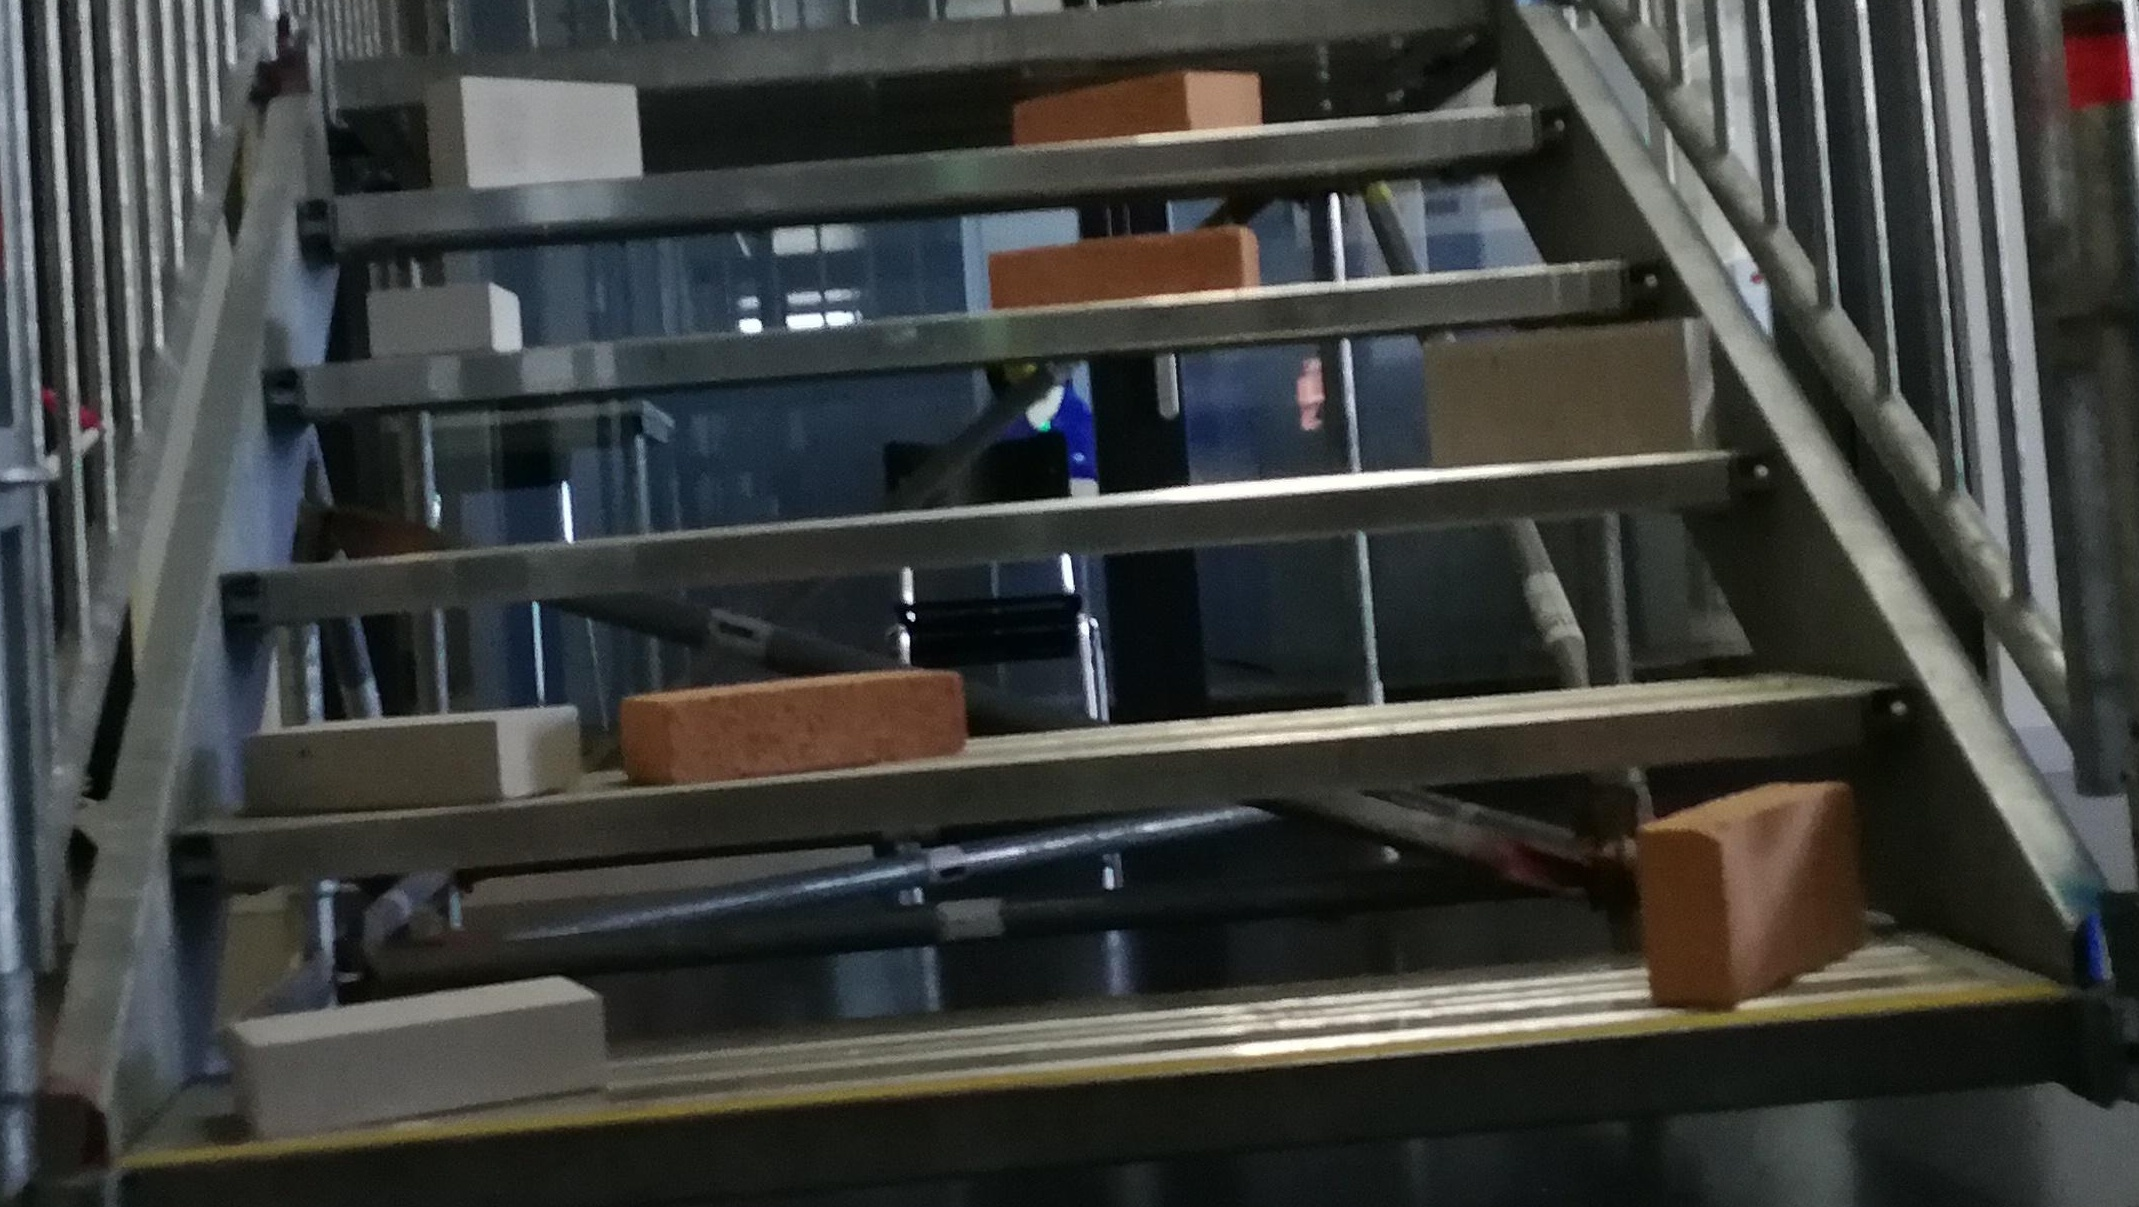brick: (234, 979, 602, 1134), (1640, 784, 1858, 1006), (1426, 319, 1714, 458), (621, 670, 959, 783), (242, 706, 576, 802), (425, 73, 641, 182), (990, 232, 1258, 297), (1012, 72, 1258, 131)
edge: (137, 994, 2068, 1207), (184, 690, 1908, 881), (234, 460, 1747, 623), (281, 264, 1625, 399), (307, 103, 1528, 244)
